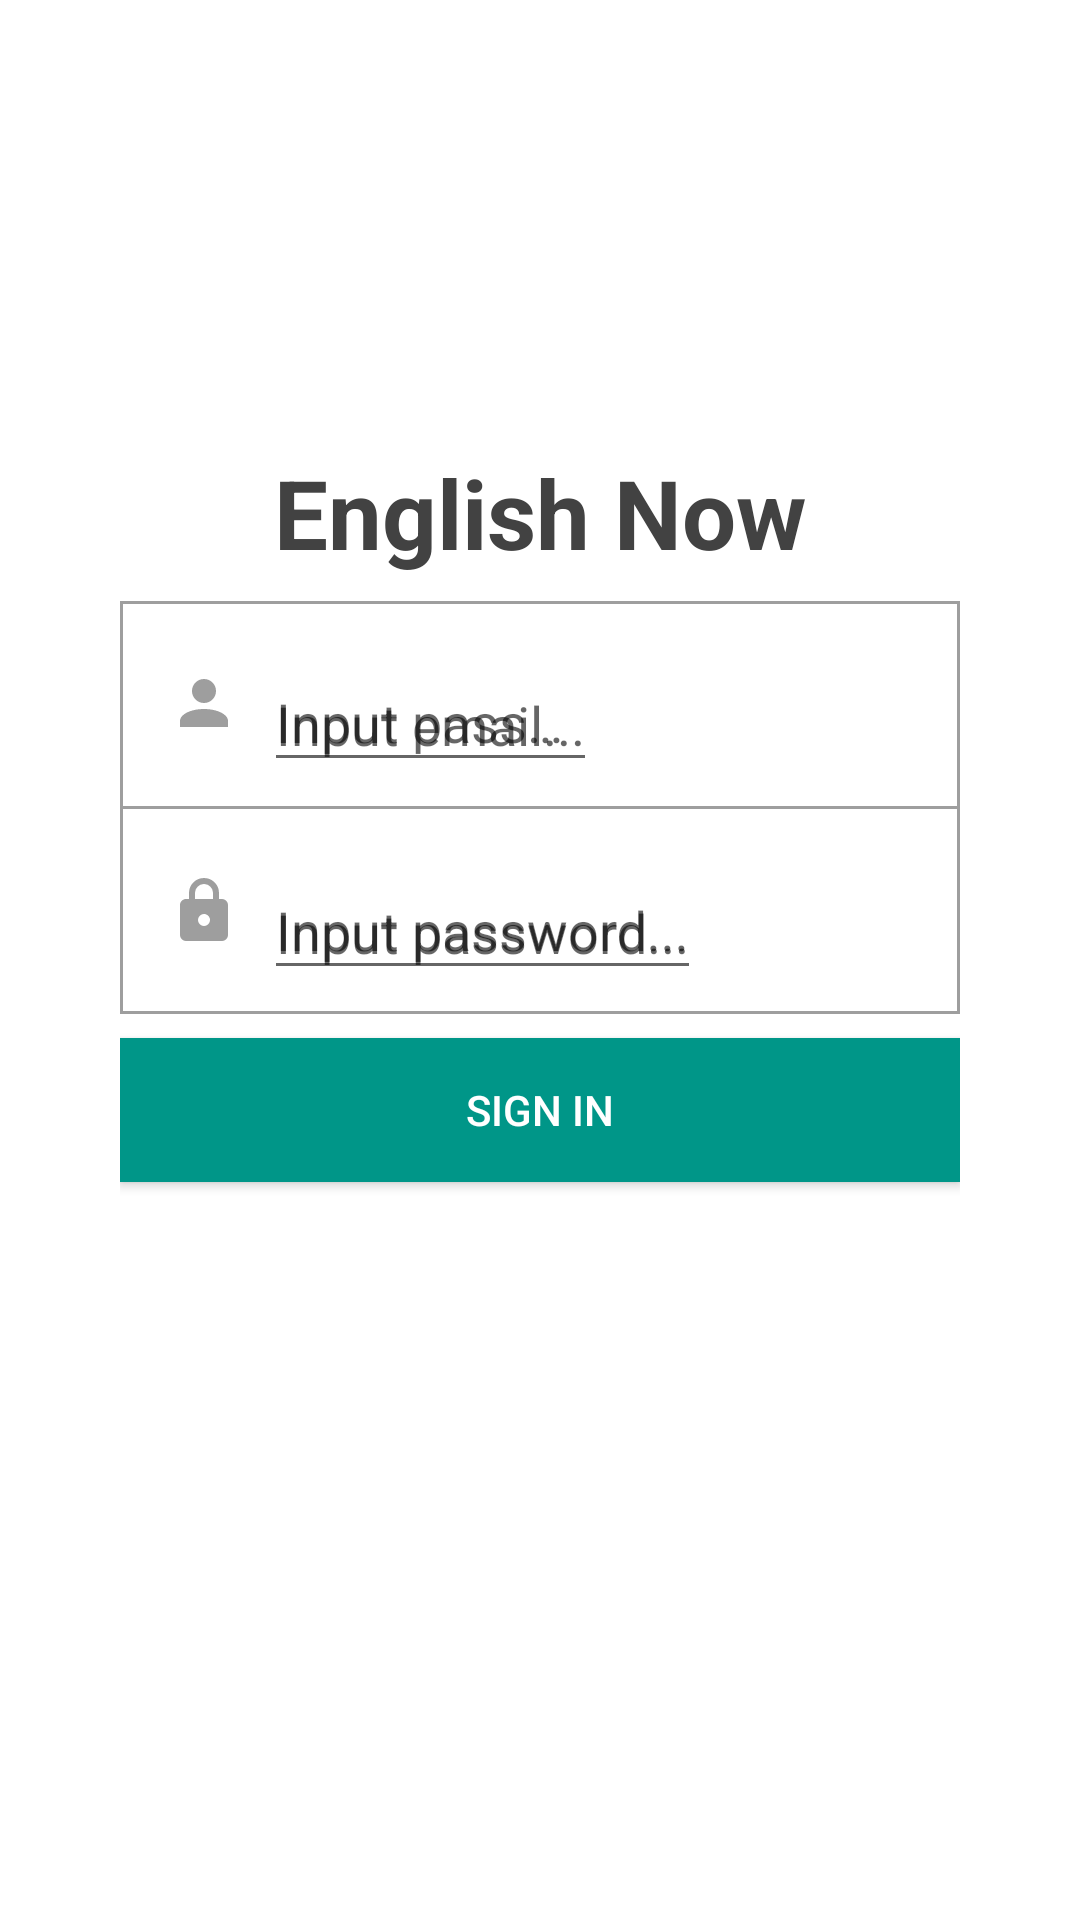

Icons on this 1080x1920 Android screen, each with the point to tap as (x=x, y=y):
account: (x=204, y=703)
lock: (x=204, y=909)
